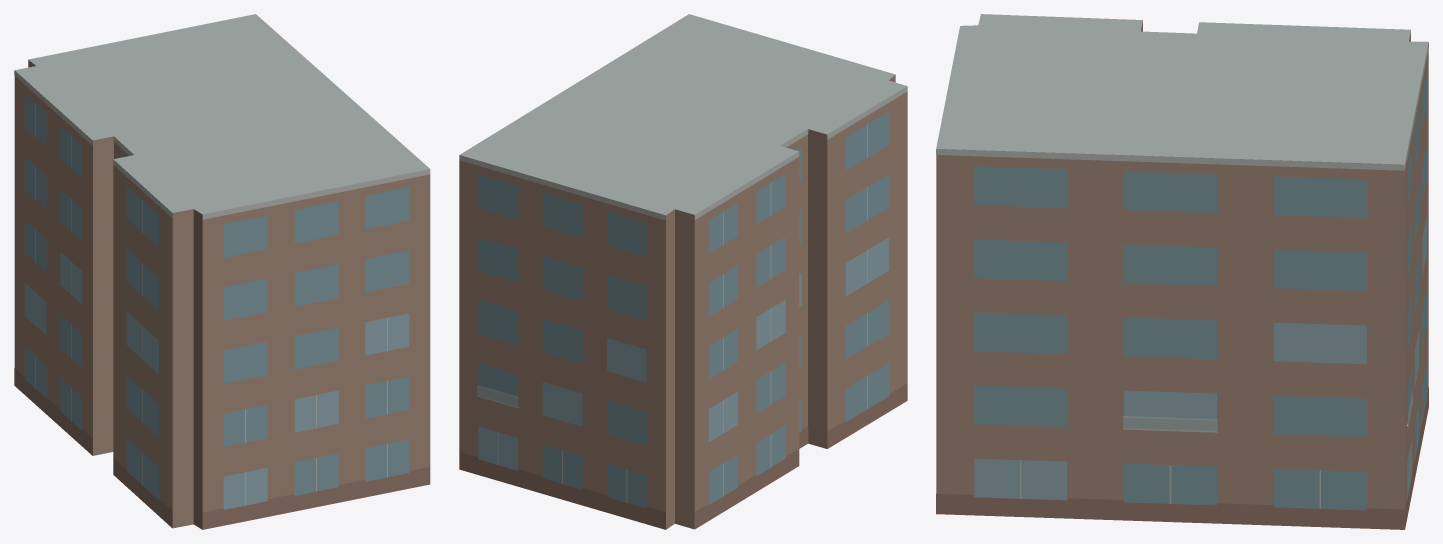
File: survey-upis-32601236.glb
3 renders of one model, left to right at view 1: azimuth 30°, elevation 25°; view 2: azimuth 150°, elevation 25°; view 3: azimuth 270°, elevation 25°, orthographic. The views are drawn at different scales.
Visible parts, largest first — view 1: survey-upis-32601236.tmp; view 2: survey-upis-32601236.tmp; view 3: survey-upis-32601236.tmp.
Boxes of the visible parts, x1,y1,x2,y2 form: survey-upis-32601236.tmp: (14, 14, 430, 529); survey-upis-32601236.tmp: (459, 14, 907, 529); survey-upis-32601236.tmp: (936, 14, 1428, 529).
Size of the model in its own units: 12.83 by 14.5 by 17.74.
